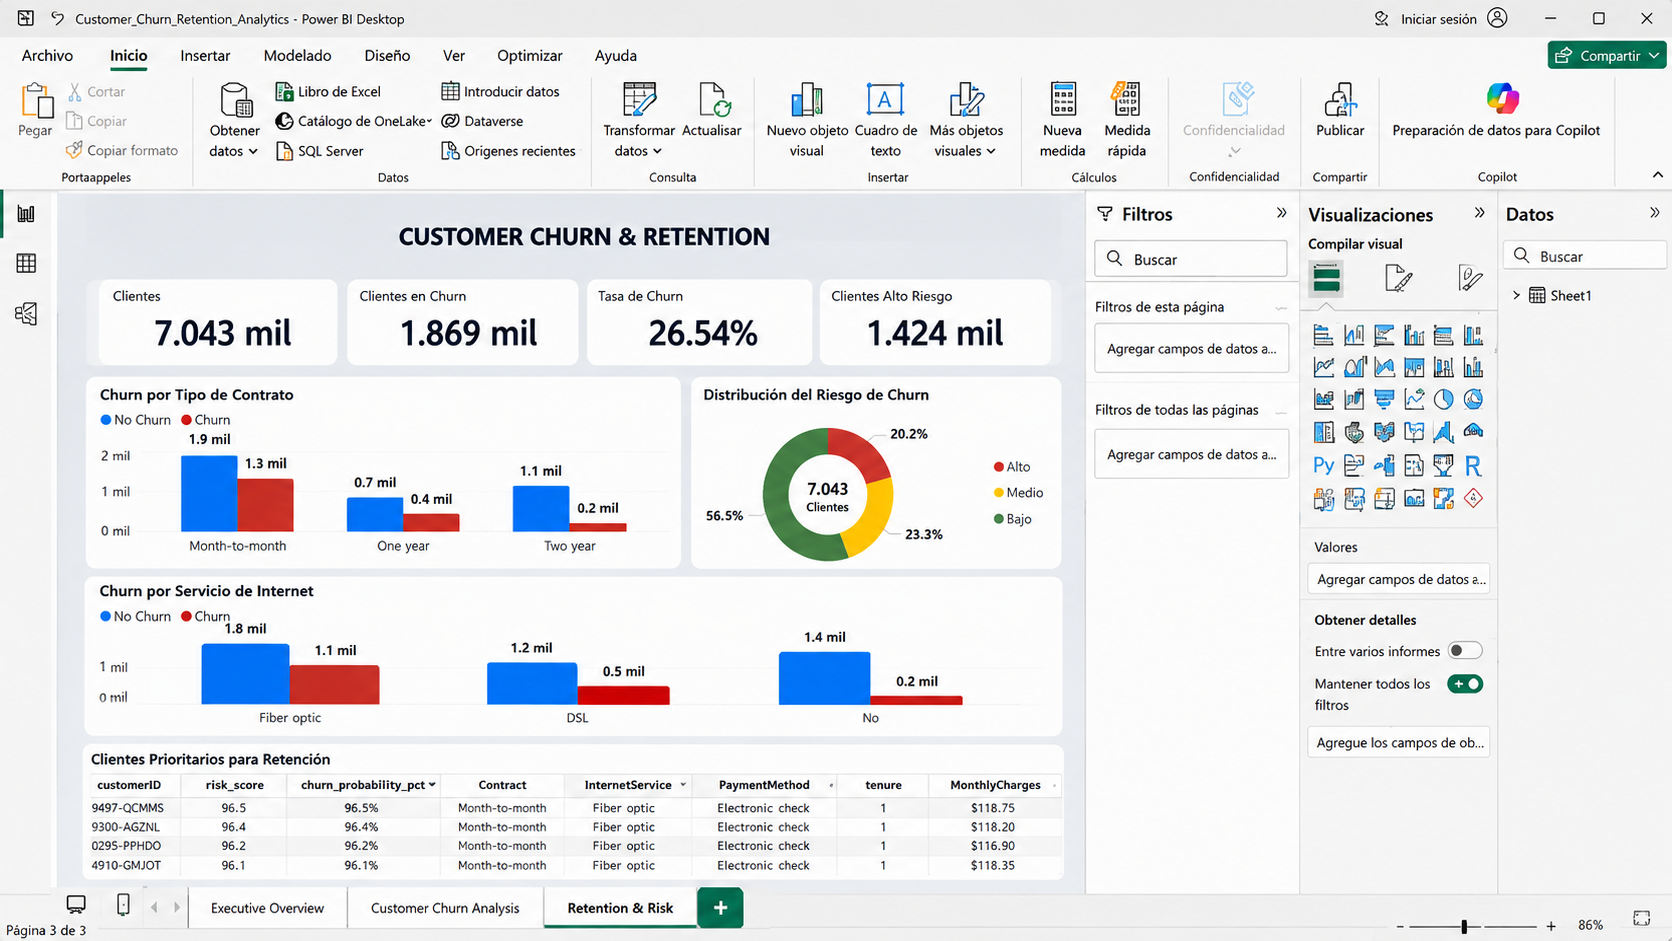

The page's visual inventory and layout, read from the dashboard file:
{"tool":"powerbi","page":{"name":"Executive Overview","canvas":[1920,1080],"ordinal":0},"visuals":[{"type":"cardVisual","title":"Clientes","fields":{"Data":["CountNonNull(Sheet1.customerID)"]},"box":[52.7,84.8,389.8,121.5],"z":0},{"type":"cardVisual","title":"Clientes con Churn","fields":{"Data":["CountNonNull(Sheet1.Churn)"]},"box":[534.3,84.8,389.8,139.9],"z":1000},{"type":"cardVisual","title":"asa de Churn","fields":{"Data":["Sheet1.Tasa Churn"]},"box":[997.5,84.8,389.8,139.9],"z":2000},{"type":"cardVisual","title":"Clientes Alto Riesgo","fields":{"Data":["Sheet1.Clientes Alto Riesgo"]},"box":[1462.9,84.8,389.8,139.9],"z":3000},{"type":"clusteredColumnChart","title":"Churn por Tipo de Contrato","fields":{"Category":["Sheet1.Contract"],"Series":["Sheet1.Churn"],"Y":["CountNonNull(Sheet1.customerID)"]},"box":[52.5,225,907.5,250],"z":4000},{"type":"clusteredColumnChart","title":"Churn por Servicio de Internet","fields":{"Category":["Sheet1.InternetService"],"Series":["Sheet1.Churn"],"Y":["CountNonNull(Sheet1.customerID)"]},"box":[52.5,475,1800,312.5],"z":5000},{"type":"donutChart","title":"Distribución del Riesgo de Churn","fields":{"Category":["Sheet1.risk_category"],"Y":["CountNonNull(Sheet1.customerID)"]},"box":[960,225,892.5,250],"z":6000},{"type":"tableEx","title":"Clientes Prioritarios para Retención","fields":{"Values":["Sheet1.customerID","Sum(Sheet1.tenure)","Sheet1.Contract","Sheet1.InternetService","Sheet1.PaymentMethod","Sum(Sheet1.MonthlyCharges)","Sheet1.Churn","Sum(Sheet1.risk_score)","Sheet1.risk_category"]},"box":[52.5,787.5,1800,240],"z":7000},{"type":"textbox","box":[800,0,607.5,55],"z":8000},{"type":"textbox","box":[897.5,55,490,30],"z":9000}]}

Visuals, with their boxes on the page's 1920x1080 design canvas (x1, y1, x2, y2). These are canvas units, not pixel positions in the 1672x941 screenshot, which may show the page scaled, cropped or inside an application window:
"Clientes" cardVisual: <region>53, 85, 442, 206</region>
"Clientes con Churn" cardVisual: <region>534, 85, 924, 225</region>
"asa de Churn" cardVisual: <region>998, 85, 1387, 225</region>
"Clientes Alto Riesgo" cardVisual: <region>1463, 85, 1853, 225</region>
"Churn por Tipo de Contrato" clusteredColumnChart: <region>52, 225, 960, 475</region>
"Churn por Servicio de Internet" clusteredColumnChart: <region>52, 475, 1852, 788</region>
"Distribución del Riesgo de Churn" donutChart: <region>960, 225, 1852, 475</region>
"Clientes Prioritarios para Retención" tableEx: <region>52, 788, 1852, 1028</region>
textbox: <region>800, 0, 1408, 55</region>
textbox: <region>898, 55, 1388, 85</region>
